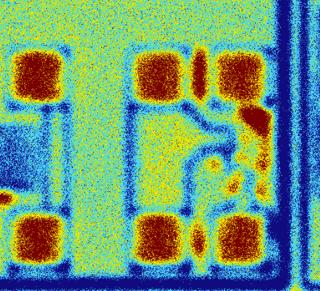Pad 3: (14, 49, 64, 103), (134, 51, 184, 105), (133, 213, 183, 264), (216, 50, 265, 102), (13, 214, 63, 263), (216, 215, 264, 265)
